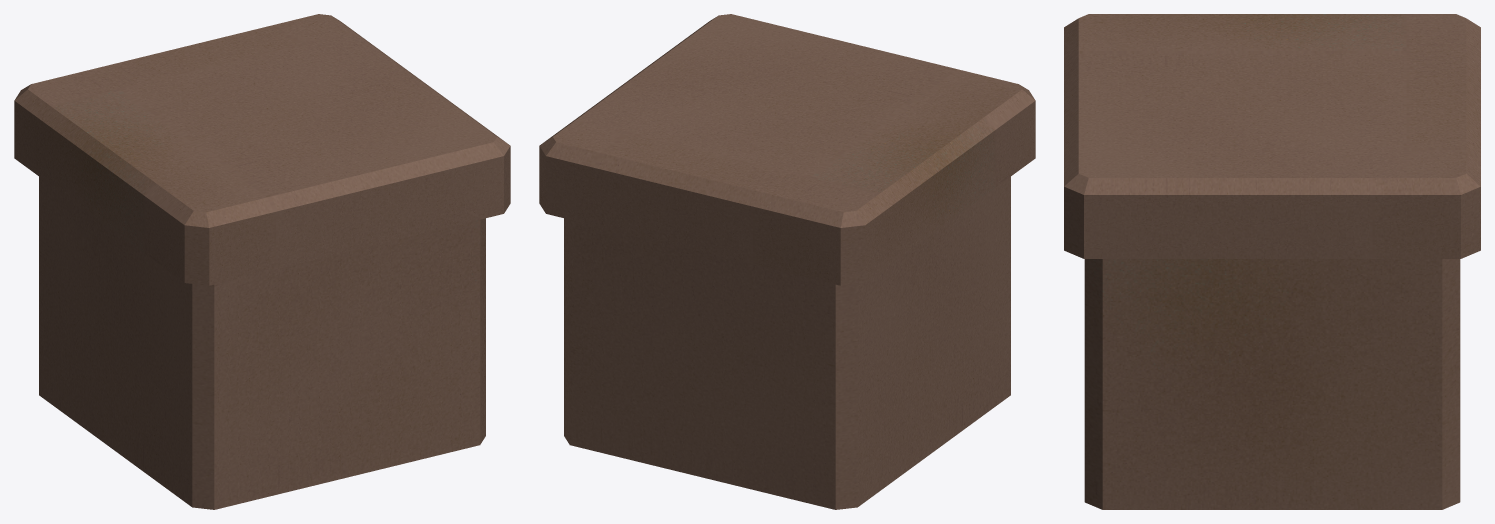
File: boxbottom.fbx
3 views of the same model, side by side, from view 1: azimuth 30°, elevation 25°; view 2: azimuth 150°, elevation 25°; view 3: azimuth 270°, elevation 25° (orthographic). The views are drawn at different scales.
Parts seen in each view (by area): view 1: pCube1, pCube2; view 2: pCube1, pCube2; view 3: pCube2, pCube1.
Boxes of the visible parts, box(x1,y1,x2,y2) form: pCube1: box(39, 176, 485, 509); pCube2: box(14, 14, 510, 285); pCube1: box(564, 176, 1010, 509); pCube2: box(539, 14, 1035, 285); pCube2: box(1064, 14, 1480, 258); pCube1: box(1084, 259, 1460, 509).
Size of the model in its own units: 27.24 by 27.24 by 24.14.
1 material, 1 textured.
